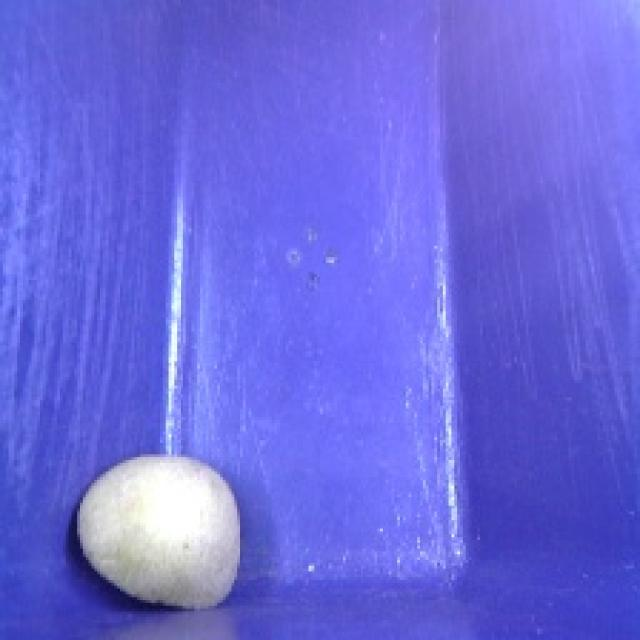potato: (49, 444, 254, 615)
